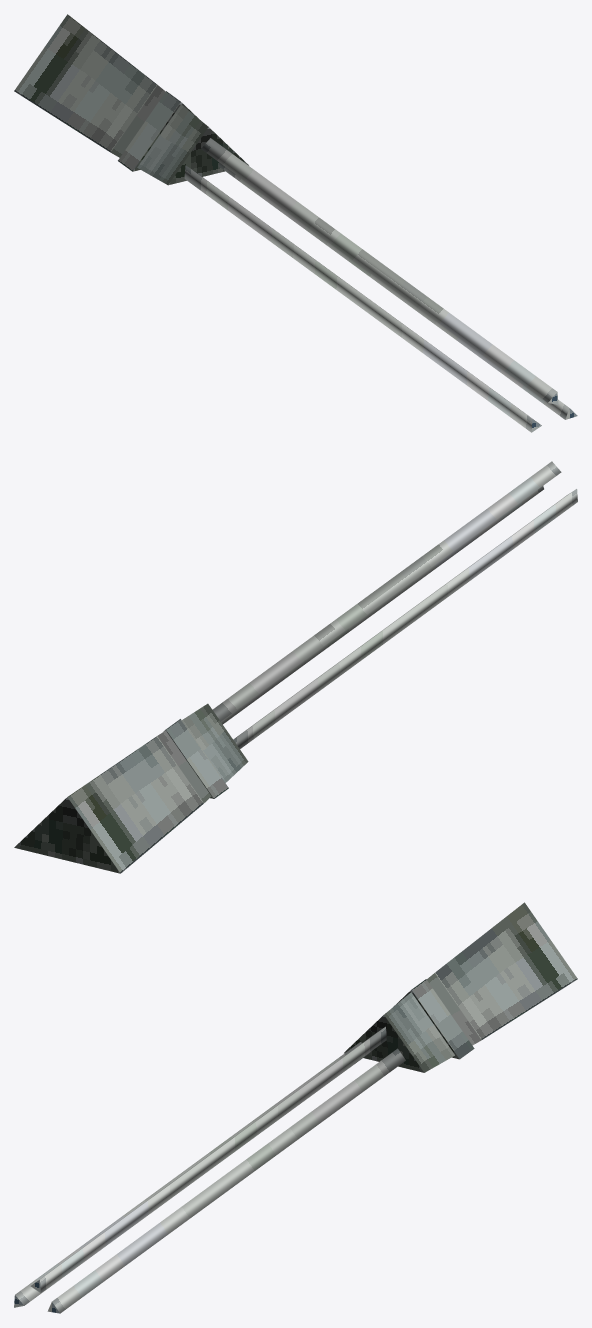
The model's file is bwing_weapon2l_s04_l2.fbx.
The picture shows the model from 3 angles, top to bottom: view 1: azimuth 30°, elevation 25°; view 2: azimuth 150°, elevation 25°; view 3: azimuth 330°, elevation 25°; orthographic projection.
Parts seen in each view (by area): view 1: mesh_node; view 2: mesh_node; view 3: mesh_node.
Part boxes in pixels (x1,y1,x2,y2): mesh_node: [14, 14, 577, 432]; mesh_node: [14, 461, 577, 873]; mesh_node: [14, 902, 577, 1313].
Size of the model in its own units: 0.3588 by 0.2048 by 2.83.
Materials: 1 (1 with a texture image).
